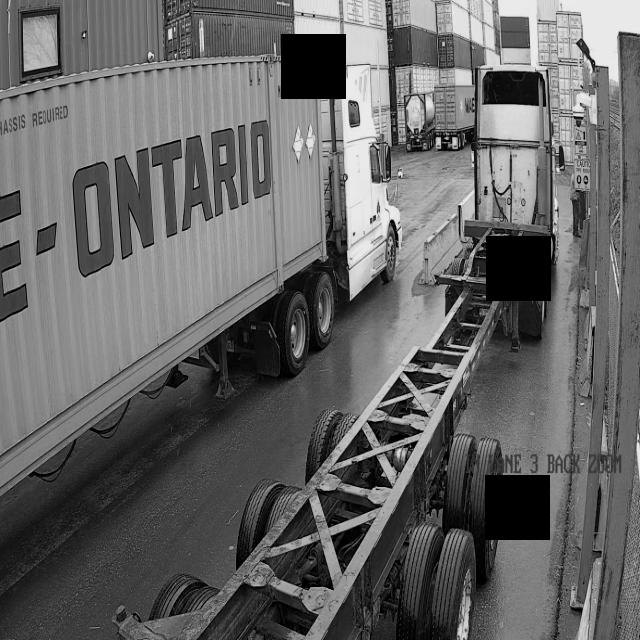container_company_logo: (114, 121, 270, 258)
driver: (570, 174, 582, 236)
truck_with_container: (0, 54, 404, 495), (434, 87, 475, 149), (404, 94, 435, 151)
truck_without_container: (114, 65, 559, 640)
